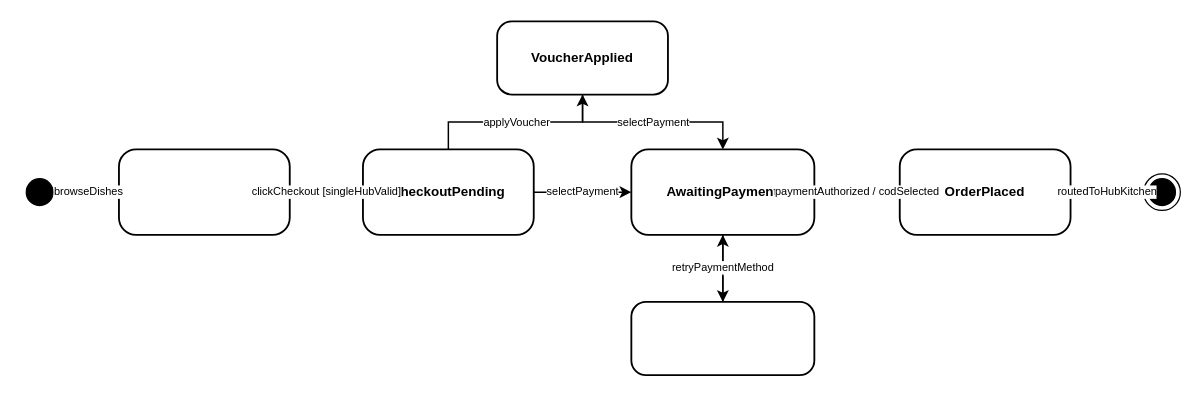
This 1202x398 diagram has some shape labels left out. Here are the shapes that lost their labels. From the top down, the centre of each, then its label:
(203,191): CartBuilding
(722,338): PaymentFailed
